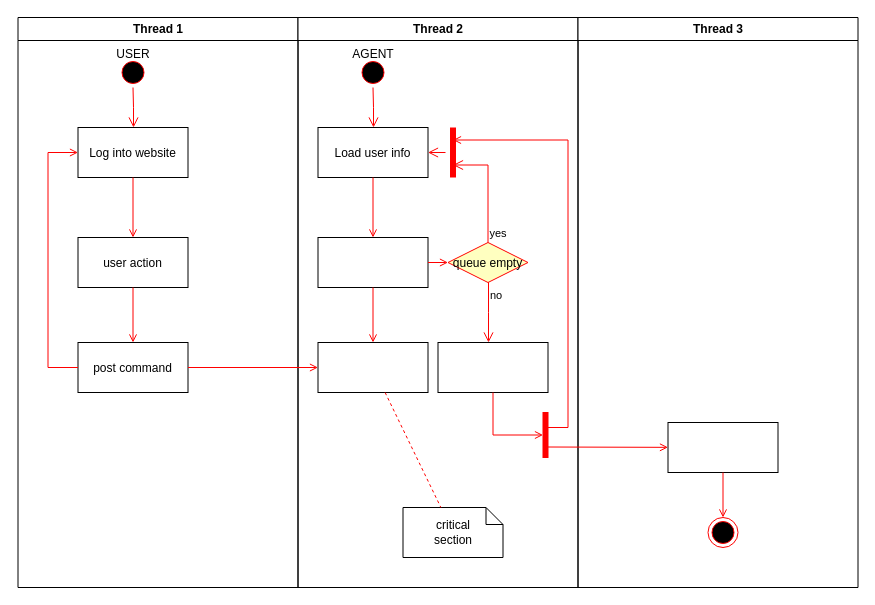
This 875x605 diagram has some shape labels left out. Each missing label, with the centre of its shape:
"check for new commands" belongs at pixel 372 262.
"command queue" belongs at pixel 372 367.
"dispatch command worker thread" belongs at pixel 492 367.
"process command" belongs at pixel 722 447.
